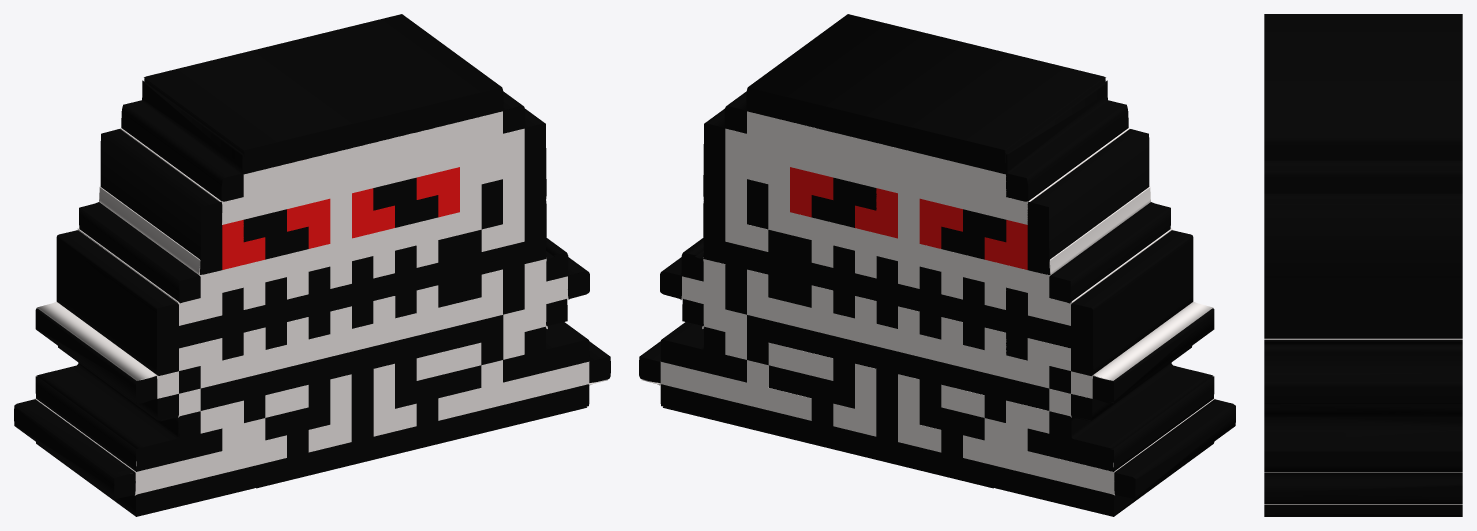
Rendered from Toadz_4436.glb.
The picture shows the model from 3 angles, left to right: view 1: azimuth 30°, elevation 25°; view 2: azimuth 150°, elevation 25°; view 3: azimuth 270°, elevation 25°; orthographic projection.
Visible parts, largest first — view 1: Curve; view 2: Curve; view 3: Curve.
Boxes of the visible parts, x1=… form: Curve: x1=14, y1=14, x2=610, y2=516; Curve: x1=639, y1=14, x2=1235, y2=516; Curve: x1=1264, y1=14, x2=1462, y2=516.
Size of the model in its own units: 2.86 by 1.88 by 1.
